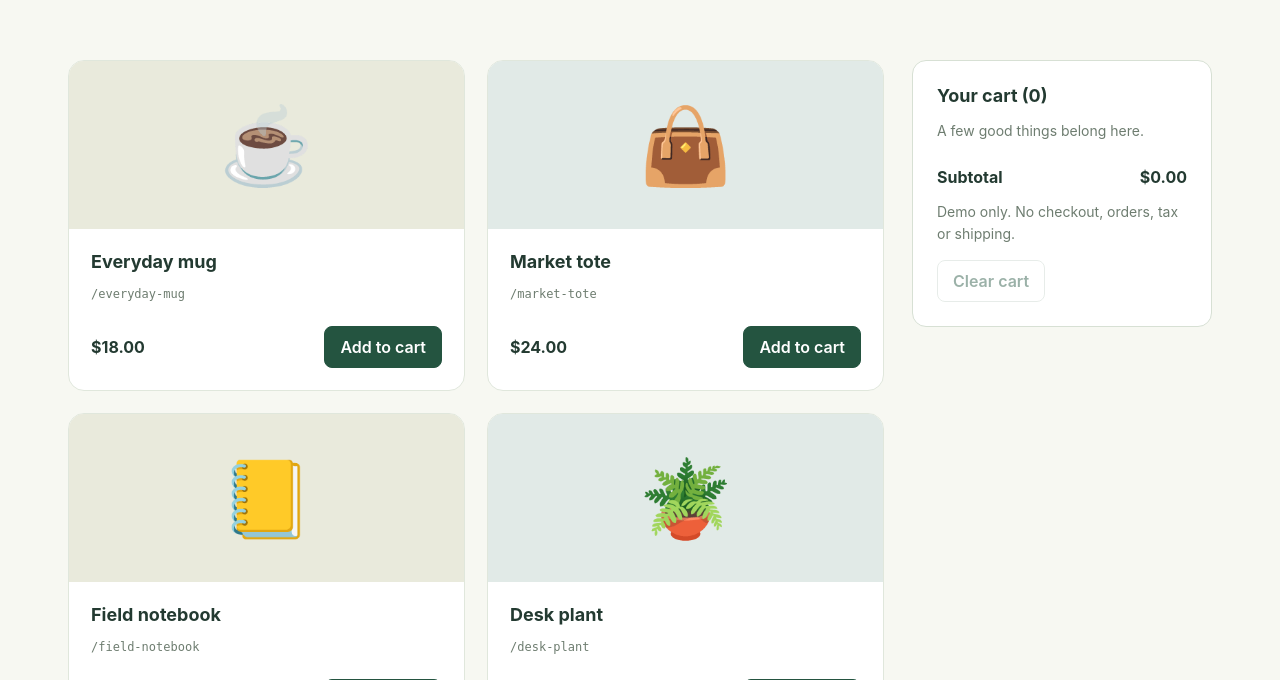
Test: MyShop interaction › updates cart quantities and resets all local state
(page scrolled)
Step 1. Click the button "Add to cart" in the row of "$18.00" → (383, 347), box [324,326,442,368]
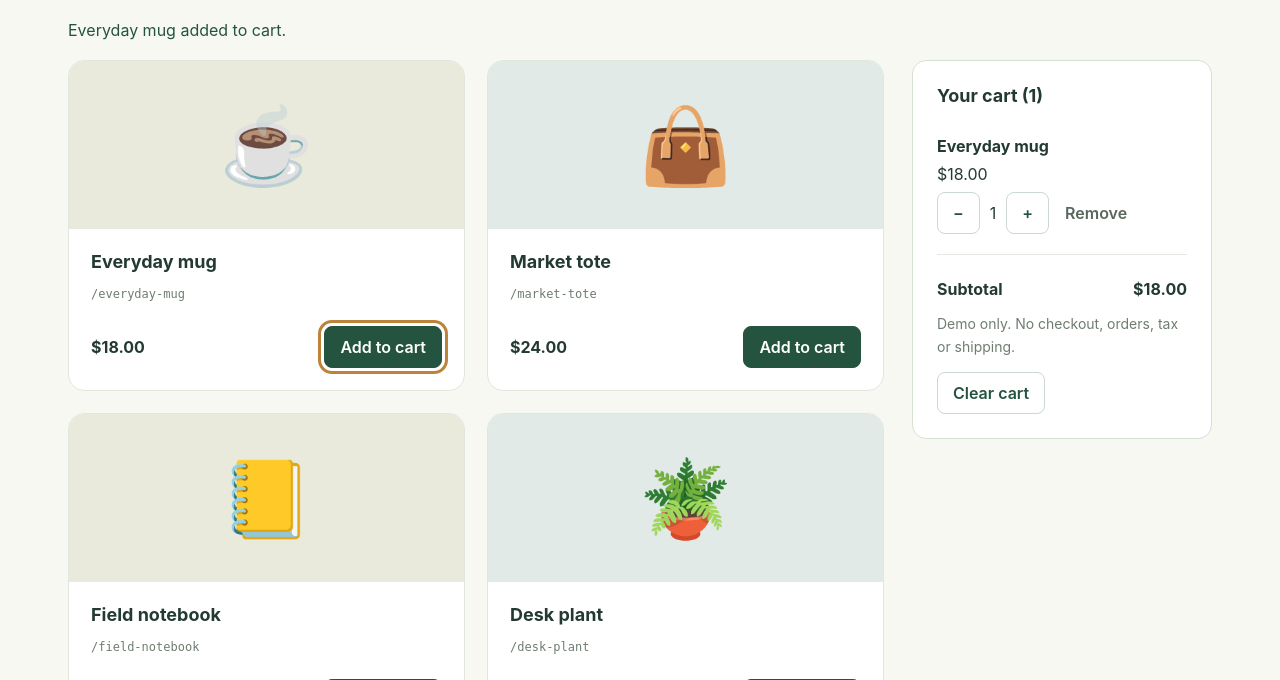
Now the text "$18.00" is shown 2 times, box [937,164,988,184]; [1133,279,1187,299]
Step 2. Click the button named "Increase Everyday mug" → (1028, 213), box [1006,192,1049,234]
(page scrolled)
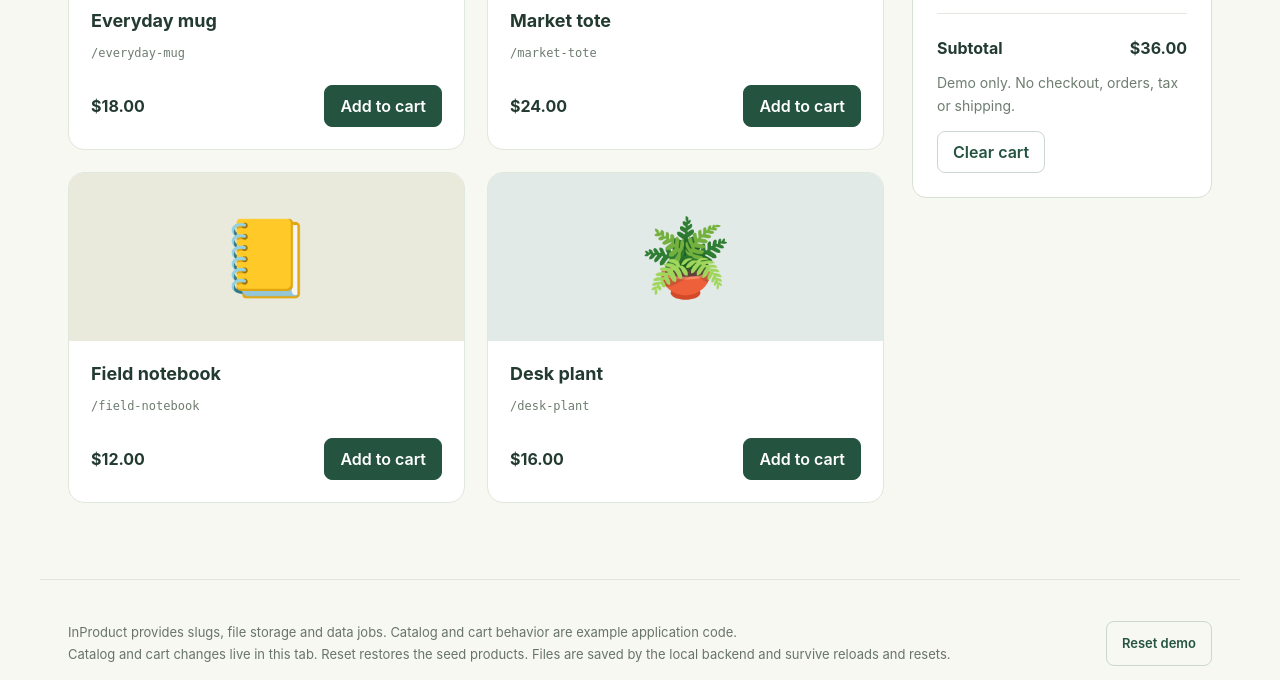
Now the text "$36.00" is shown 2 times
Step 3. Click the button "Reset demo" → (1159, 643), box [1106,621,1212,666]
(page scrolled)
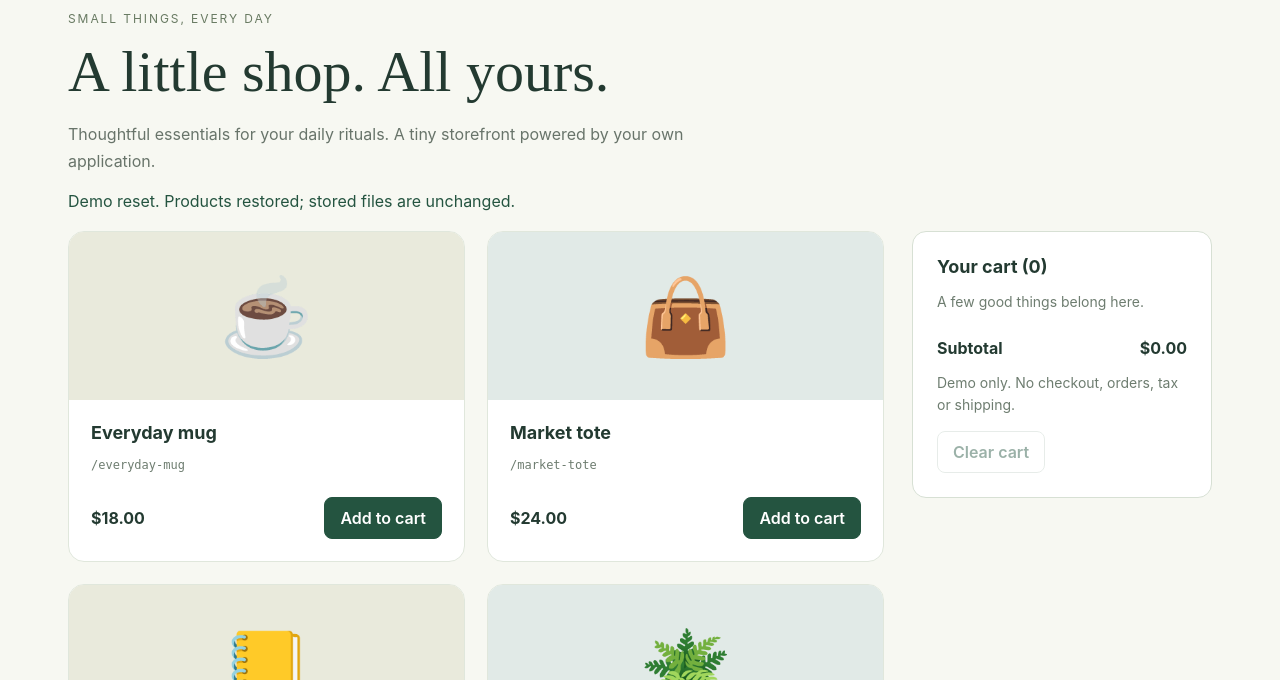
Now the text "$0.00" is shown, box [1140,338,1187,358]
